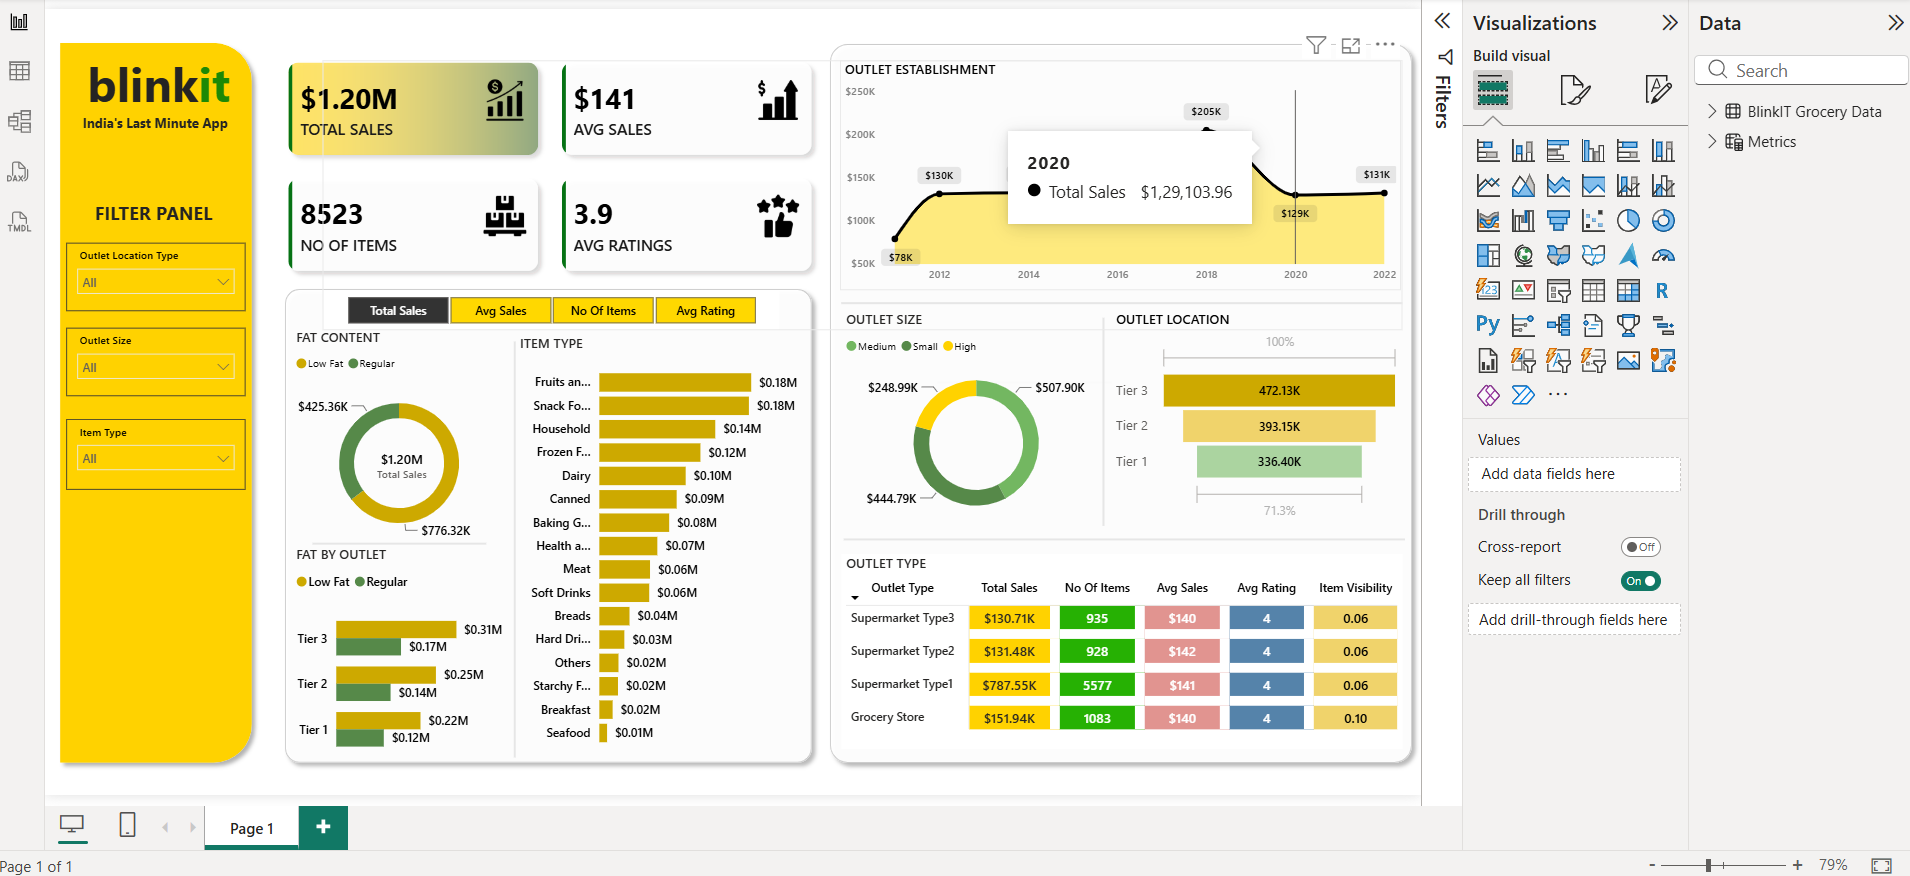

The dashboard page shown, as its layout file describes it:
{"tool":"powerbi","page":{"name":"Page 1","canvas":[1400,800],"ordinal":0},"visuals":[{"type":"shape","box":[6,25.5,213.1,750.4],"z":0},{"type":"textbox","box":[27,102.1,171.1,34.5],"z":1000},{"type":"textbox","box":[37.5,37.5,181.6,82.5],"z":2000},{"type":"cardVisual","fields":{"Data":["BlinkIT Grocery Data.Total Sales","BlinkIT Grocery Data.Avg Sales","BlinkIT Grocery Data.No Of Items","BlinkIT Grocery Data.Avg Rating"]},"box":[219.1,25.5,591.3,270.2],"z":3000},{"type":"shape","box":[235.6,276.2,553.8,499.8],"z":4000},{"type":"donutChart","title":"FAT CONTENT","fields":{"Y":["BlinkIT Grocery Data.Total Sales"],"Category":["BlinkIT Grocery Data.Item Fat Content"]},"box":[250.7,324.4,219.8,230.6],"z":5000},{"type":"slicer","fields":{"Values":["Metrics.Metrics"]},"box":[282.8,286.9,465.1,40.2],"z":6000,"group":"g1"},{"type":"cardVisual","fields":{"Data":["BlinkIT Grocery Data.Total Sales"]},"box":[303,426.3,122,76.4],"z":6000},{"type":"clusteredBarChart","title":"FAT BY OUTLET","fields":{"Y":["BlinkIT Grocery Data.Total Sales"],"Category":["BlinkIT Grocery Data.Outlet Location Type"],"Series":["BlinkIT Grocery Data.Item Fat Content"]},"box":[250.7,545.6,219.8,230.6],"z":7000},{"type":"shape","box":[907.5,374,176.9,12.1],"z":8000},{"type":"shape","box":[470.5,337.8,14.7,423.6],"z":9000},{"type":"barChart","title":"ITEM TYPE","fields":{"Y":["BlinkIT Grocery Data.Total Sales"],"Category":["BlinkIT Grocery Data.Item Type"]},"box":[478.6,331.1,292.2,430.3],"z":10000},{"type":"shape","box":[789.5,26.8,609.9,749.3],"z":11000},{"type":"shape","box":[272.1,537.5,176.9,12.1],"z":12000},{"type":"lineChart","title":"OUTLET ESTABLISHMENT","fields":{"Category":["BlinkIT Grocery Data.Outlet Establishment Year"],"Y":["BlinkIT Grocery Data.Total Sales"]},"box":[809.6,52.3,571,234.6],"z":13000,"group":"g1"},{"type":"shape","box":[809.7,290.9,571,16.1],"z":13000},{"type":"donutChart","title":"OUTLET SIZE","fields":{"Y":["BlinkIT Grocery Data.Total Sales"],"Category":["BlinkIT Grocery Data.Outlet Size"]},"box":[809.7,307,275,225.2],"z":14000},{"type":"shape","box":[1069.7,313.7,14.7,211.8],"z":15000},{"type":"funnel","title":"OUTLET LOCATION","fields":{"Category":["BlinkIT Grocery Data.Outlet Location Type"],"Y":["Sum(BlinkIT Grocery Data.Sales)"]},"box":[1084.5,307,298.9,218.5],"z":16000},{"type":"shape","box":[812.3,532.2,571,16.1],"z":17000},{"type":"pivotTable","title":"OUTLET TYPE","fields":{"Values":["BlinkIT Grocery Data.Total Sales","BlinkIT Grocery Data.No Of Items","BlinkIT Grocery Data.Avg Sales","BlinkIT Grocery Data.Avg Rating","Avg(BlinkIT Grocery Data.Item Visibility)"],"Rows":["BlinkIT Grocery Data.Outlet Type"]},"box":[809.7,555,571,198.4],"z":18000},{"type":"slicer","fields":{"Values":["BlinkIT Grocery Data.Outlet Location Type"]},"box":[21.4,237.3,182.3,69.7],"z":19000},{"type":"slicer","fields":{"Values":["BlinkIT Grocery Data.Outlet Size"]},"box":[21.4,324.4,182.3,69.7],"z":20000},{"type":"slicer","fields":{"Values":["BlinkIT Grocery Data.Item Type"]},"box":[21.4,416.9,182.3,72.4],"z":21000},{"type":"textbox","box":[45.6,189,135.4,37.5],"z":22000},{"type":"group","id":"g1","title":"Group 1","box":[282.8,52.3,1097.9,274.8],"z":23000}]}

Visuals, with their boxes on the page's 1400x800 design canvas (x1, y1, x2, y2). These are canvas units, not pixel positions in the 1910x876 screenshot, which may show the page scaled, cropped or inside an application window:
shape: [6, 26, 219, 776]
textbox: [27, 102, 198, 137]
textbox: [38, 38, 219, 120]
cardVisual - BlinkIT Grocery Data.Total Sales x BlinkIT Grocery Data.Avg Sales: [219, 26, 810, 296]
shape: [236, 276, 789, 776]
"FAT CONTENT" donutChart: [251, 324, 470, 555]
slicer - Metrics.Metrics: [283, 287, 748, 327]
cardVisual - BlinkIT Grocery Data.Total Sales: [303, 426, 425, 503]
"FAT BY OUTLET" clusteredBarChart: [251, 546, 470, 776]
shape: [908, 374, 1084, 386]
shape: [470, 338, 485, 761]
"ITEM TYPE" barChart: [479, 331, 771, 761]
shape: [790, 27, 1399, 776]
shape: [272, 538, 449, 550]
"OUTLET ESTABLISHMENT" lineChart: [810, 52, 1381, 287]
shape: [810, 291, 1381, 307]
"OUTLET SIZE" donutChart: [810, 307, 1085, 532]
shape: [1070, 314, 1084, 526]
"OUTLET LOCATION" funnel: [1084, 307, 1383, 526]
shape: [812, 532, 1383, 548]
"OUTLET TYPE" pivotTable: [810, 555, 1381, 753]
slicer - BlinkIT Grocery Data.Outlet Location Type: [21, 237, 204, 307]
slicer - BlinkIT Grocery Data.Outlet Size: [21, 324, 204, 394]
slicer - BlinkIT Grocery Data.Item Type: [21, 417, 204, 489]
textbox: [46, 189, 181, 226]
"Group 1" group: [283, 52, 1381, 327]
